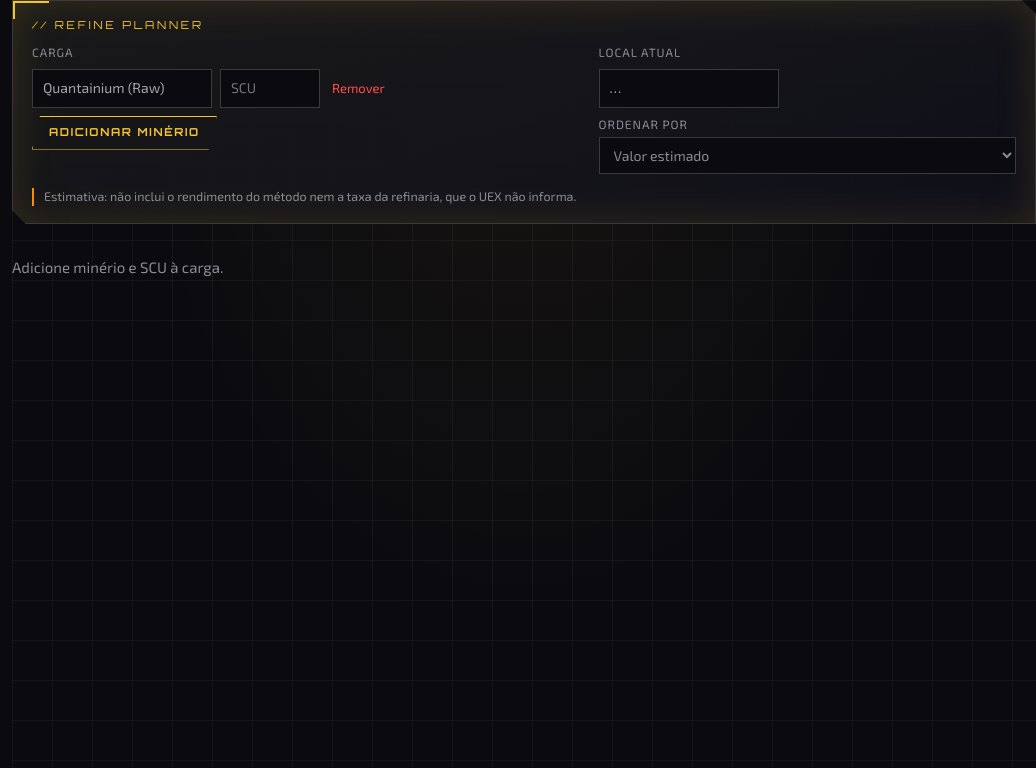
Test: SCU com decimal › mantém o texto digitado e usa o valor
Type "3,5" into the field named "SCU do minério 1" at point(270, 88), box [220,69,320,108]
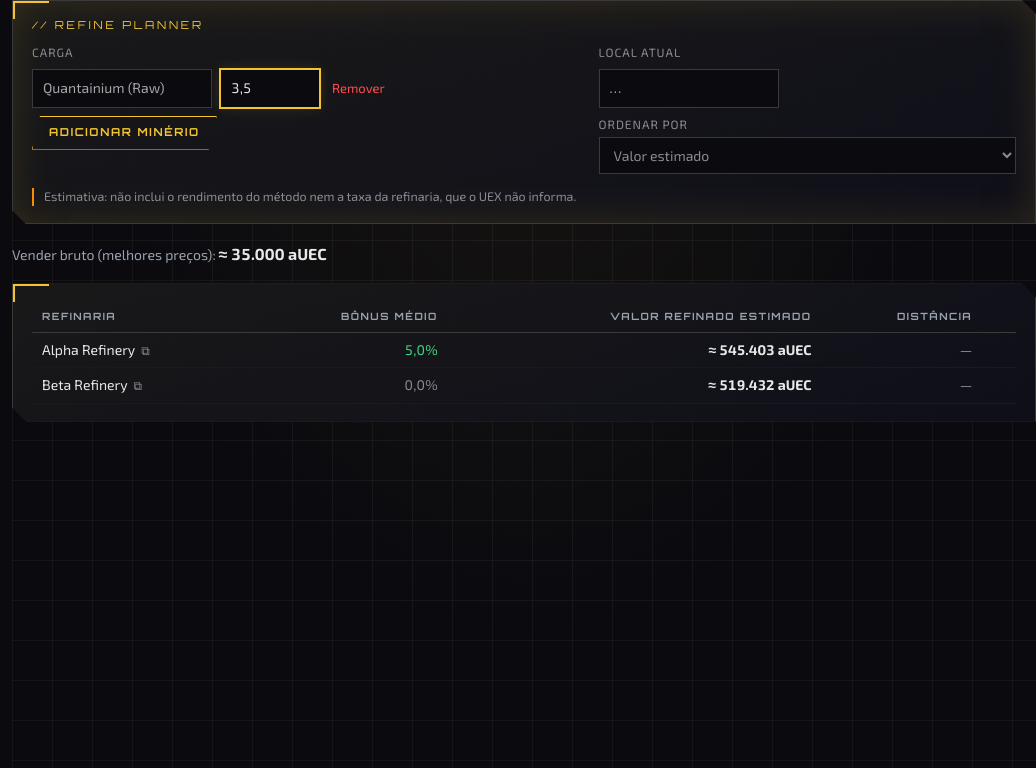
Check: the row "Alpha Refinery 5,0% ≈ 545.403 aUEC —" is shown, box [32,332,1016,368]
